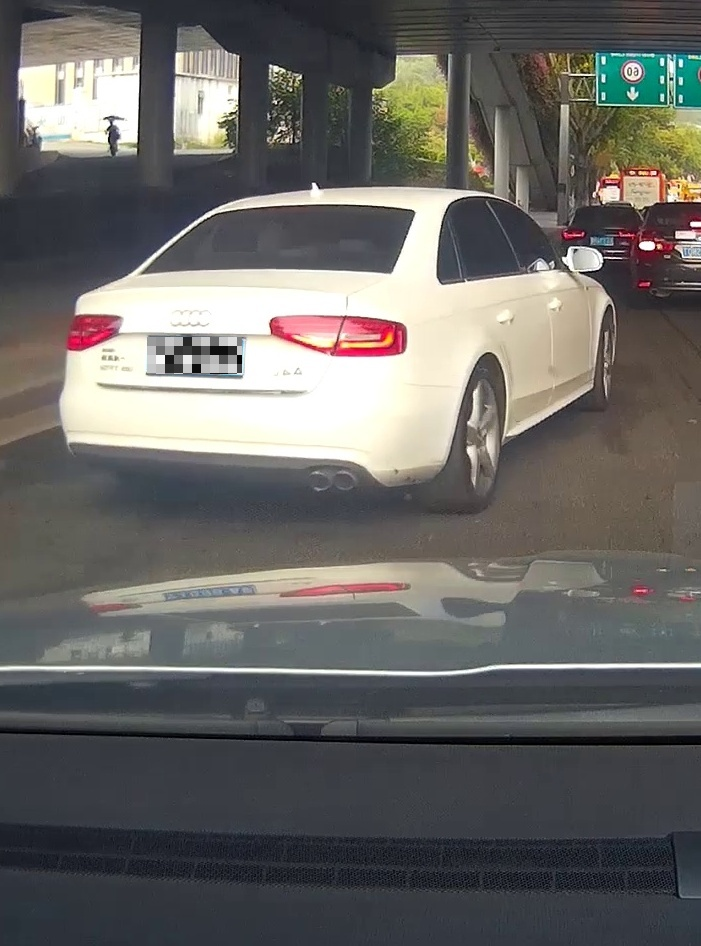L_light: (64, 314, 123, 352)
R_light: (269, 314, 408, 359)
T_light: (280, 206, 315, 213)
day-right: (55, 187, 429, 524)
plate_1: (147, 337, 242, 374)
